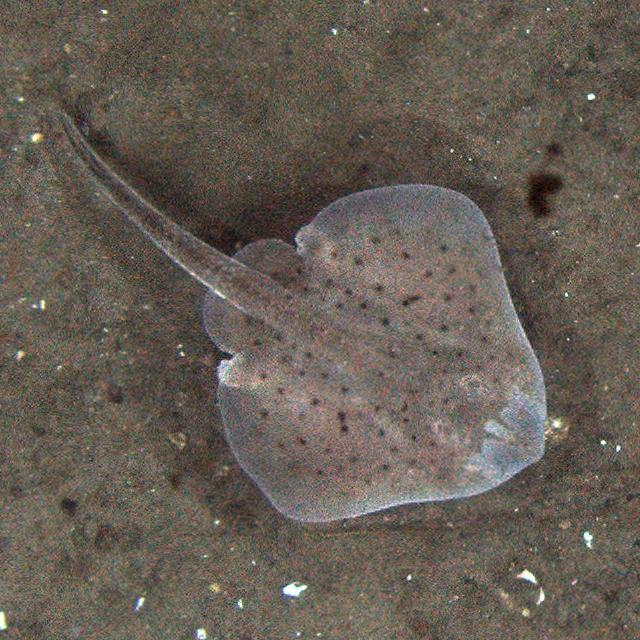skate: (50, 102, 551, 530)
